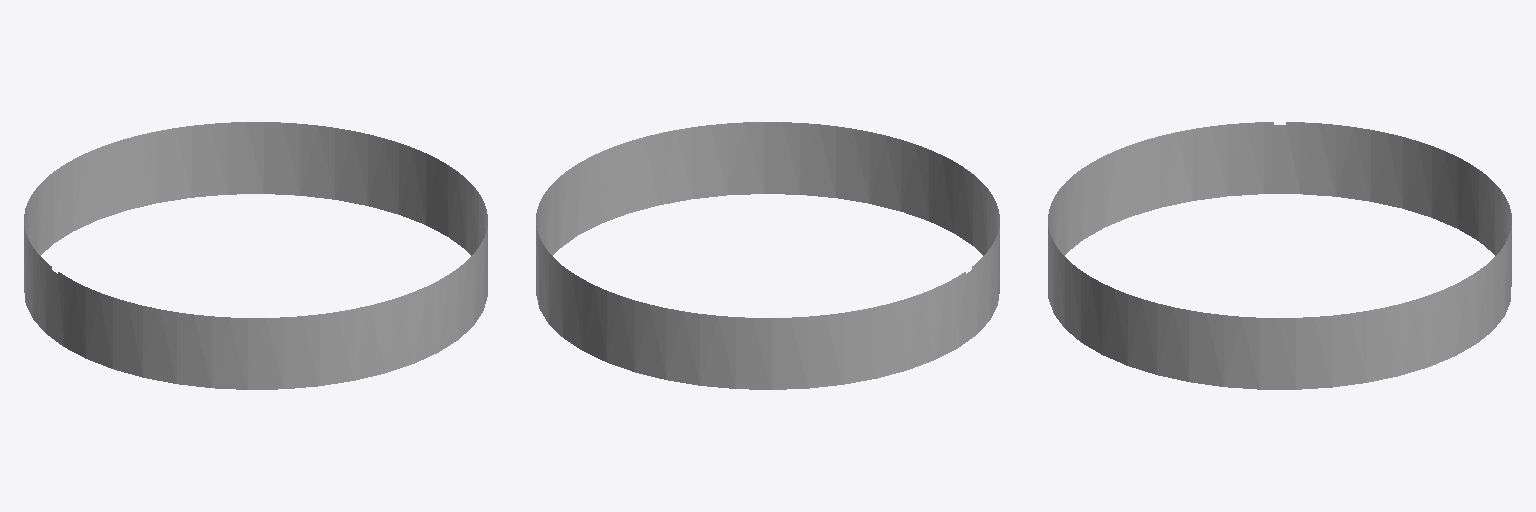
The model's file is torso_l2_1.obj.
3 views of the same model, side by side, from view 1: azimuth 30°, elevation 25°; view 2: azimuth 150°, elevation 25°; view 3: azimuth 270°, elevation 25° (orthographic).
Size of the model in its own units: 0.146 by 0.025 by 0.146.